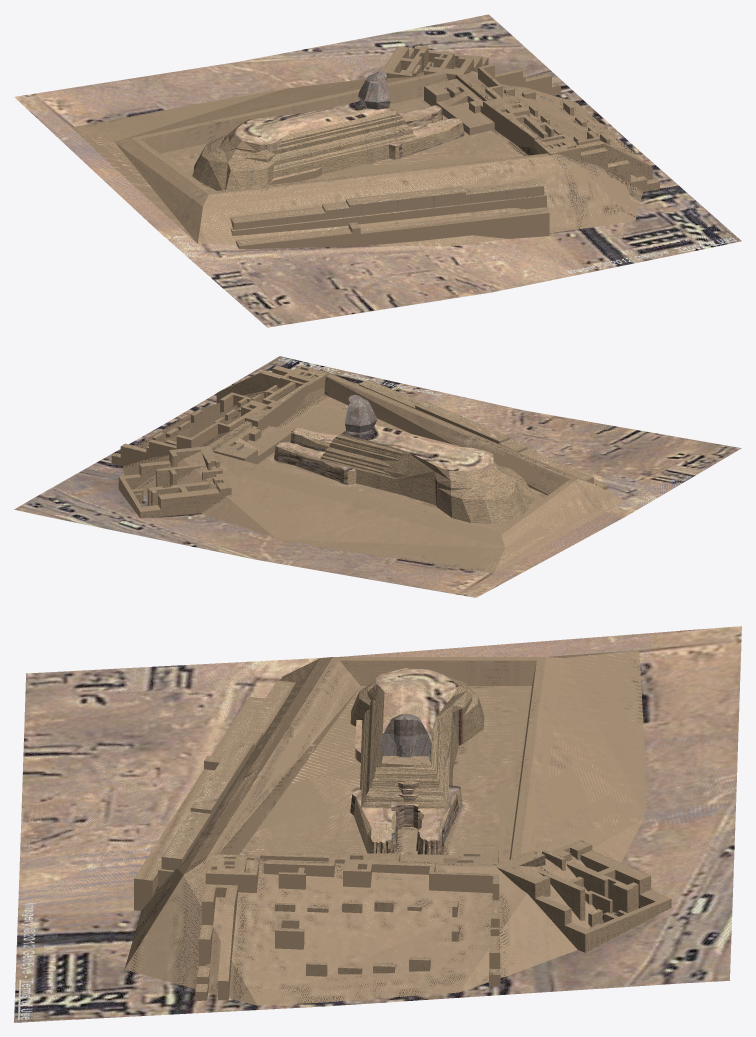
File: sphinx.fbx
3 views of the same model, one above another, from view 1: azimuth 30°, elevation 25°; view 2: azimuth 150°, elevation 25°; view 3: azimuth 270°, elevation 25° (orthographic). The views are drawn at different scales.
Parts seen in each view (by area): view 1: Group2, Google_Earth_Terrain, Group1; view 2: Group2, Google_Earth_Terrain, Group1; view 3: Group2, Google_Earth_Terrain, Group1.
Part boxes in pixels (x1,y1,x2,y2): Group2: (71,46,659,249); Google_Earth_Terrain: (14,14,741,327); Group1: (192,71,464,190); Group2: (111,365,624,573); Google_Earth_Terrain: (14,356,741,597); Group1: (274,395,535,523); Group2: (124,650,671,1005); Google_Earth_Terrain: (14,626,741,1022); Group1: (350,668,484,854).
Bounding box in the file's own units: 142 × 33.14 × 136.
